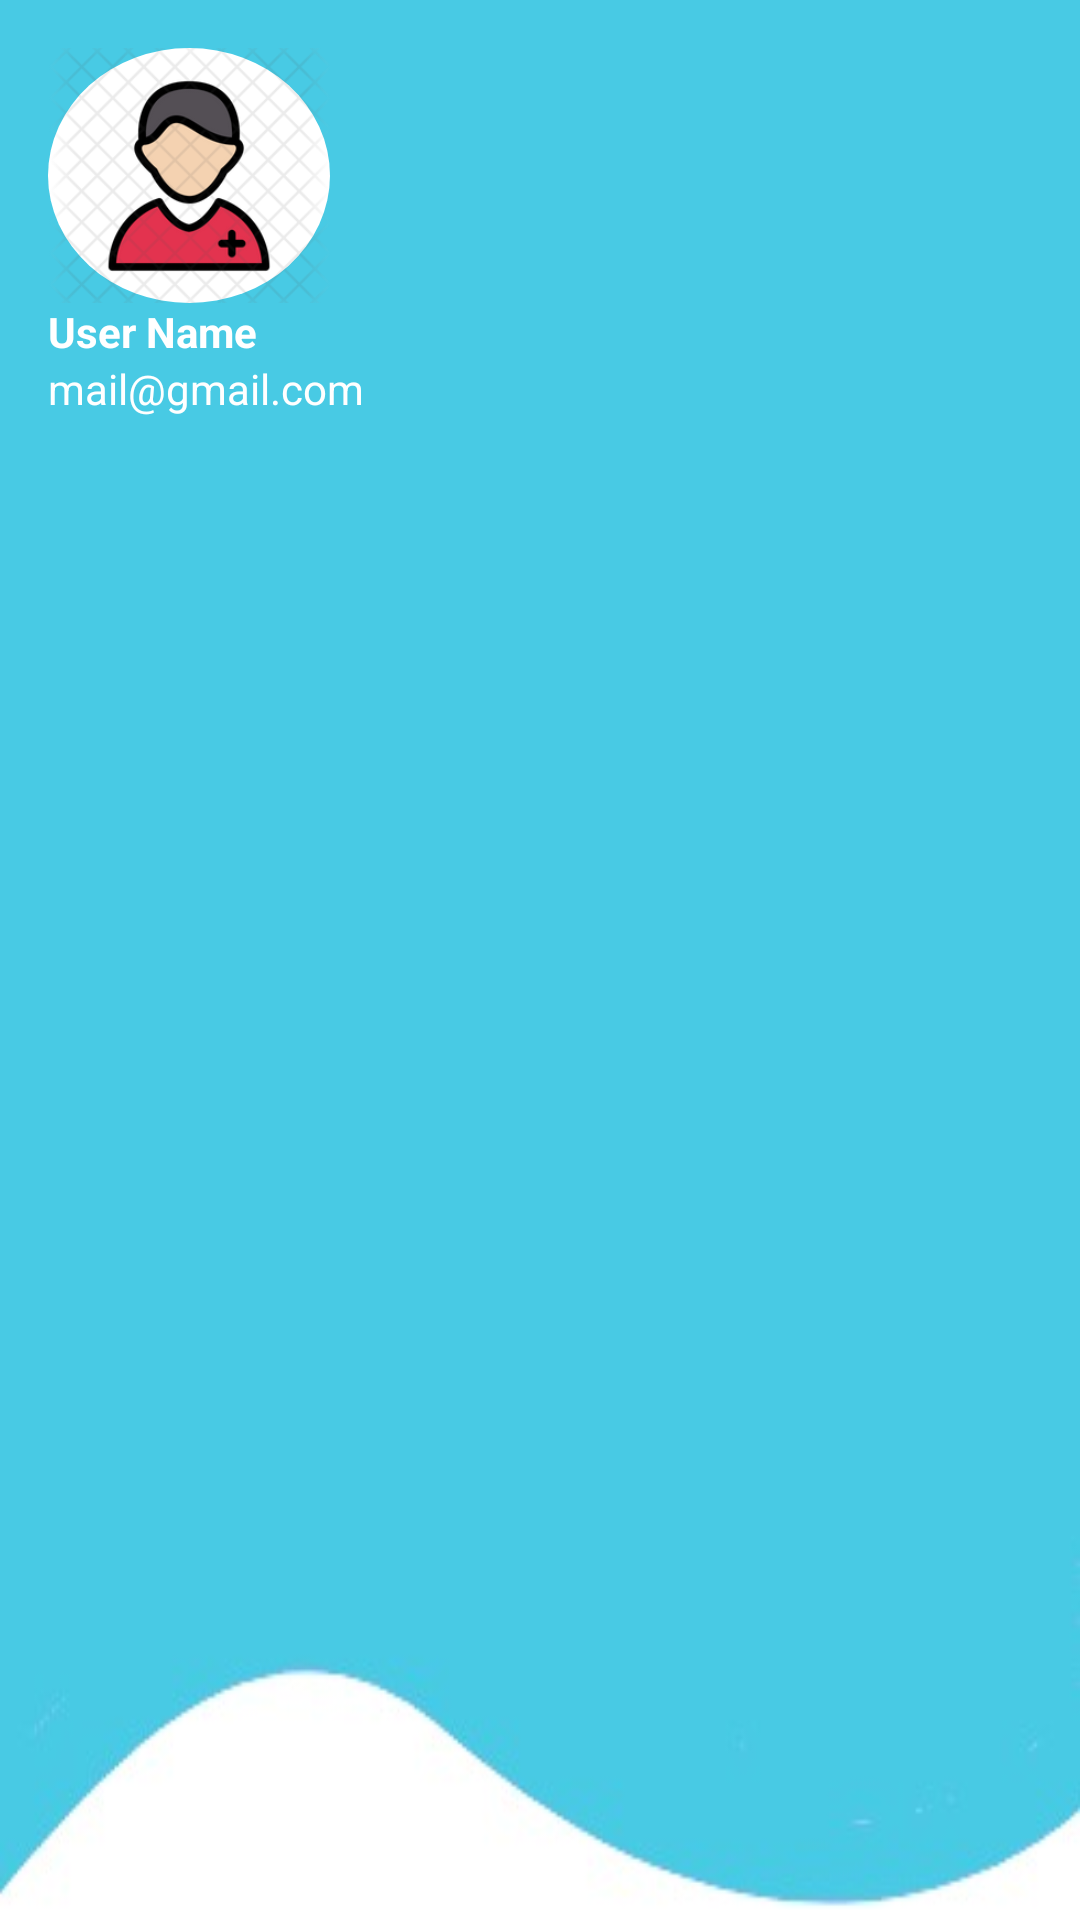

Icon bounding boxes for this 1080 x 1920 phone screenshot, format (x1, y1, x2, y2):
head: (48, 48, 330, 303)
